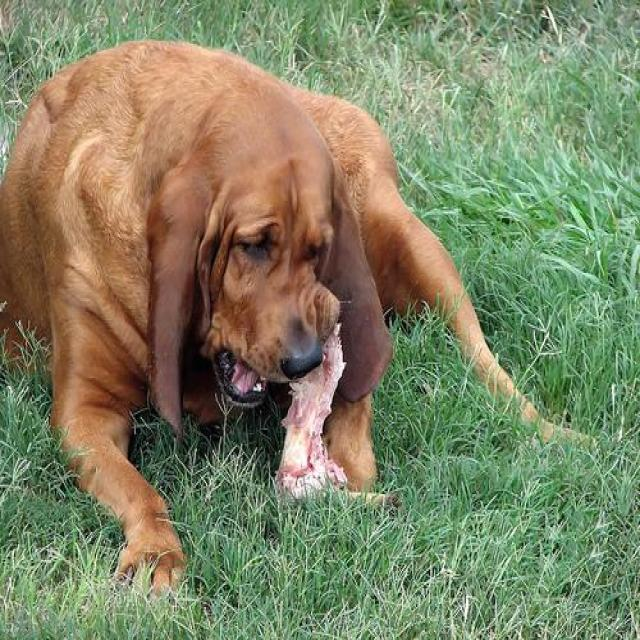bloodhound: (0, 41, 594, 591)
